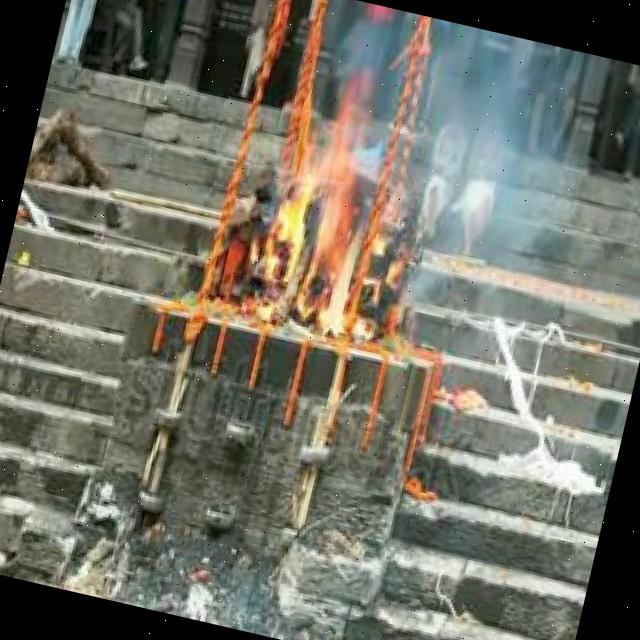fire: (258, 85, 414, 342)
